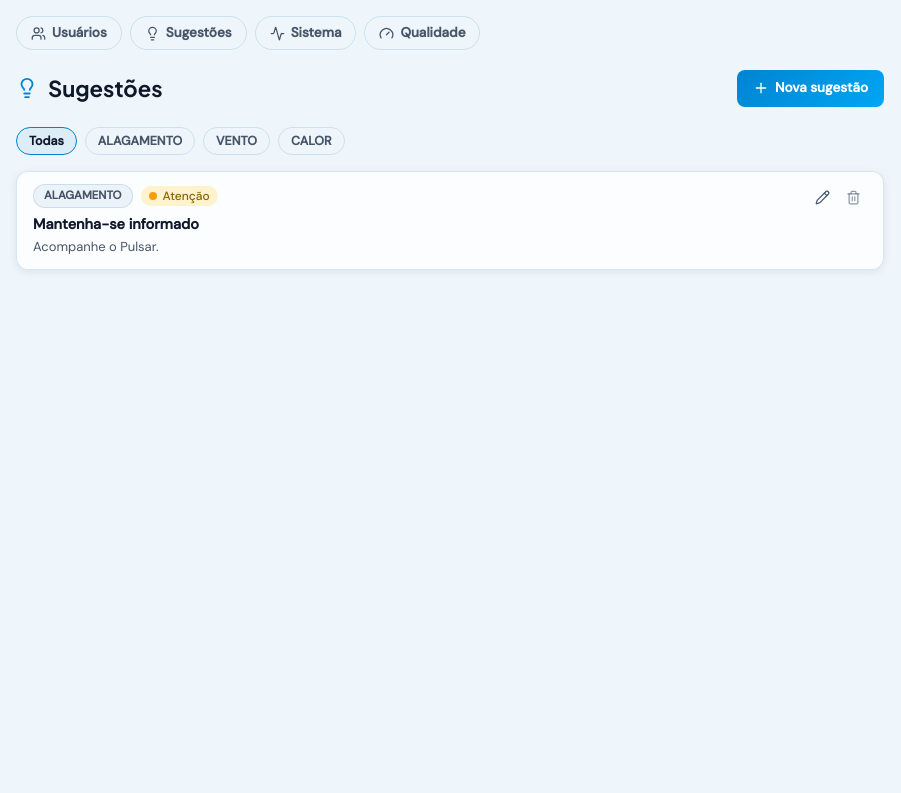
Test: SugestoesAdminPage › o formulário oferece só os perigos, Atenção/Alerta e a ordem
This screenshot has width=901, height=793.
Click the button "Nova sugestão": {"x": 811, "y": 88} [737,70,884,107]
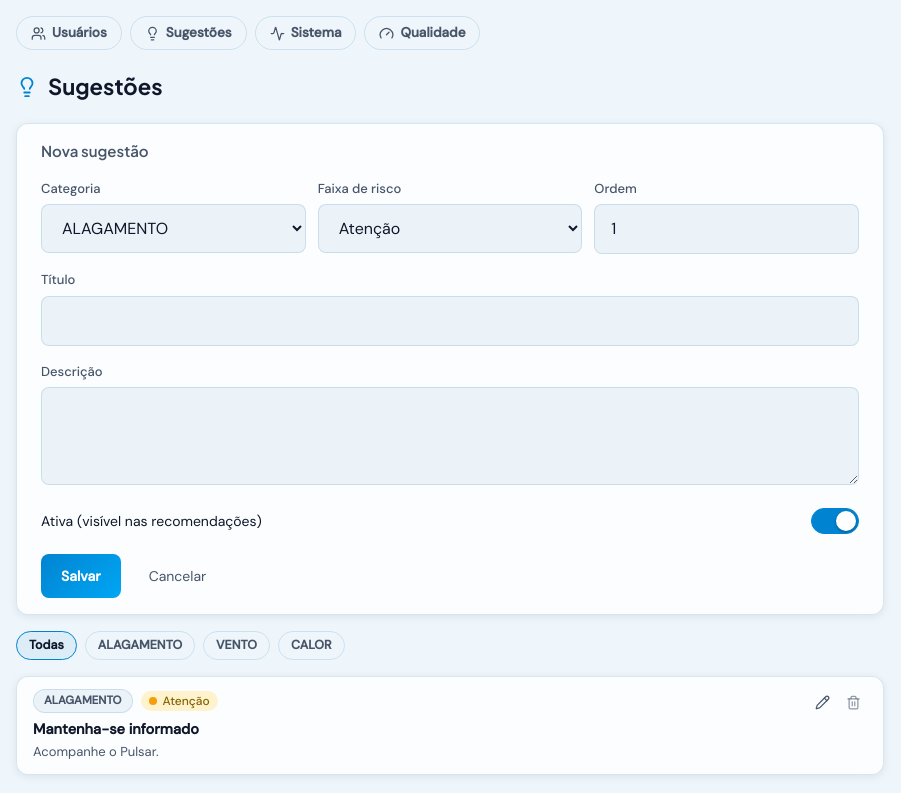
Result: the number field named "Ordem" holds "1" at [594,204,859,254]
